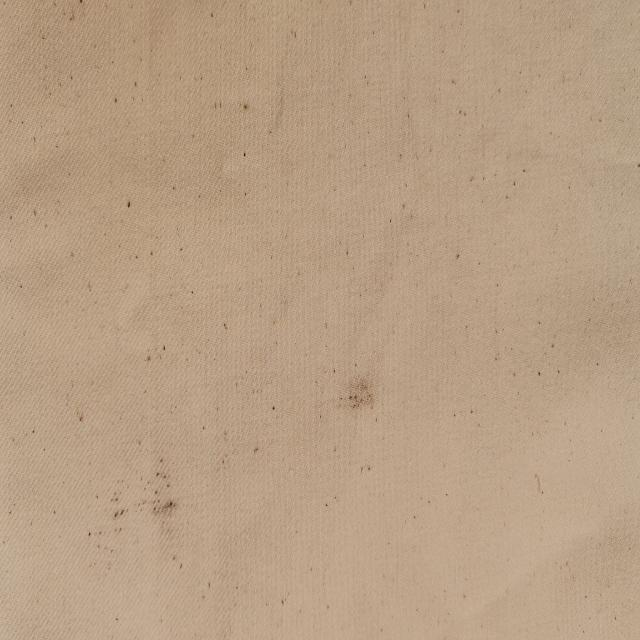taaaches: (335, 354, 380, 426), (148, 472, 186, 547), (105, 475, 128, 542)
